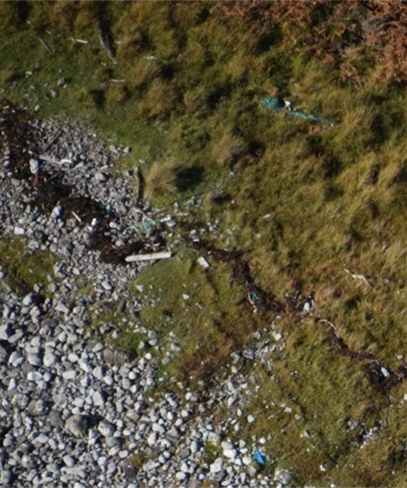straight_bar: (116, 238, 180, 272)
white_in_green: (244, 61, 348, 155), (230, 430, 287, 480)
